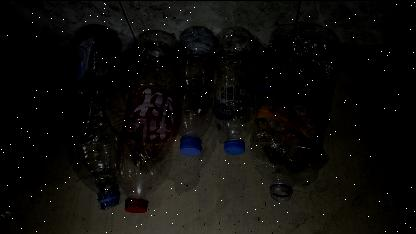Plastic Bottle: (249, 21, 338, 201), (95, 21, 174, 211), (67, 22, 119, 210), (212, 23, 254, 166), (172, 26, 210, 156)
